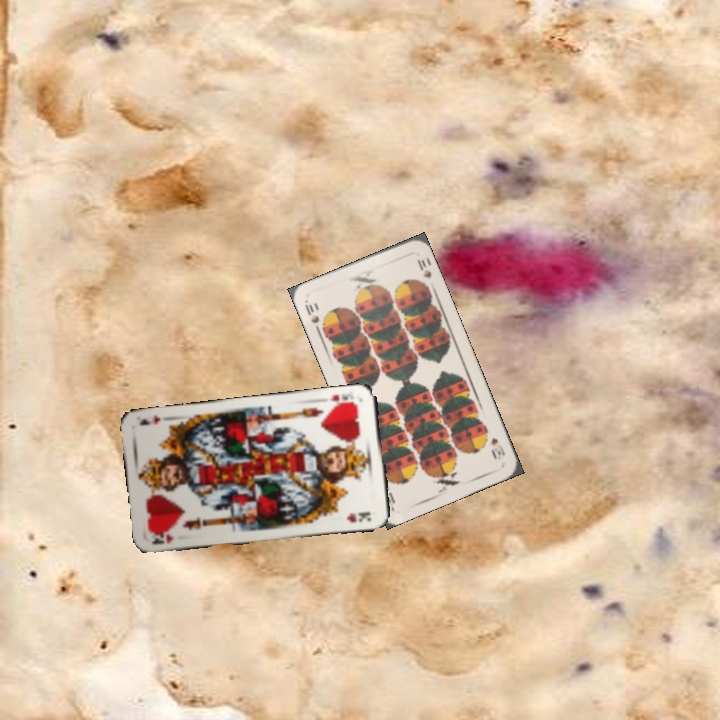HK: (325, 387, 360, 409), (148, 530, 175, 547)
S10: (301, 297, 323, 336), (486, 433, 508, 462)
